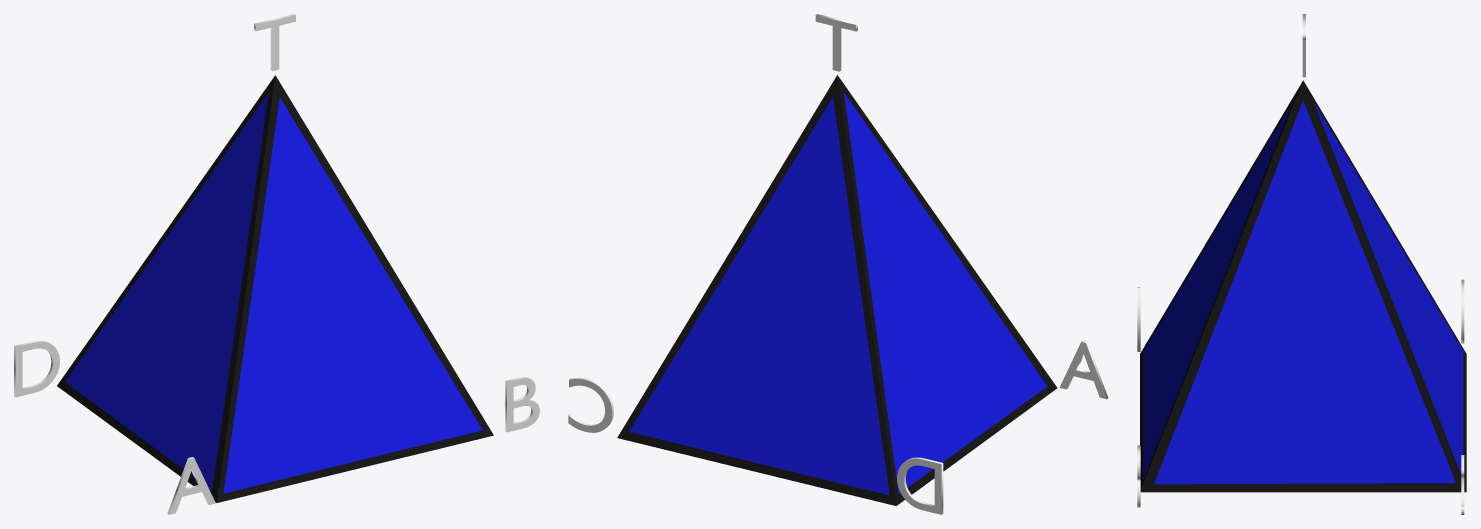
Rendered from Limas.fbx.
3 renders of one model, left to right at view 1: azimuth 30°, elevation 25°; view 2: azimuth 150°, elevation 25°; view 3: azimuth 270°, elevation 25°, orthographic. The views are drawn at different scales.
Parts seen in each view (by area): view 1: Cube.005, Text.046, Text.044, Text.048, Text.047; view 2: Cube.005, Text.046, Text.048, Text.045, Text.047; view 3: Cube.005.
Boxes of the visible parts, x1=… form: Cube.005: x1=57, y1=75, x2=493, y2=502; Text.046: x1=14, y1=340, x2=59, y2=397; Text.044: x1=505, y1=377, x2=539, y2=432; Text.048: x1=167, y1=457, x2=215, y2=514; Text.047: x1=254, y1=14, x2=295, y2=71; Cube.005: x1=617, y1=75, x2=1057, y2=505; Text.046: x1=897, y1=457, x2=943, y2=514; Text.048: x1=1059, y1=341, x2=1108, y2=399; Text.045: x1=568, y1=377, x2=613, y2=432; Text.047: x1=815, y1=14, x2=857, y2=71; Cube.005: x1=1140, y1=80, x2=1466, y2=492.
Size of the model in its own units: 425 by 426 by 316.
